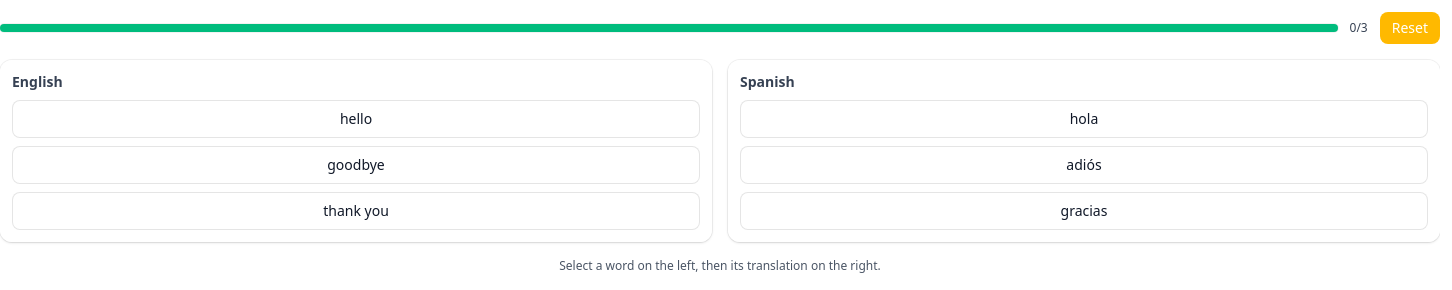
it: WordMatcher › disables matched word buttons
# Match hello - hola
Click the button with aria-label "select hello".
click(356, 119)  # box [12, 100, 700, 138]
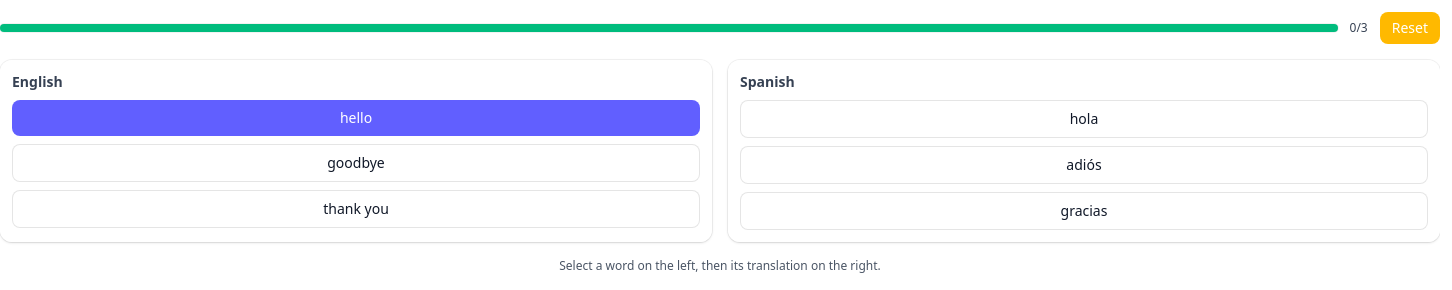
Click the button with aria-label "choose hola".
click(1084, 119)  # box [740, 100, 1428, 138]
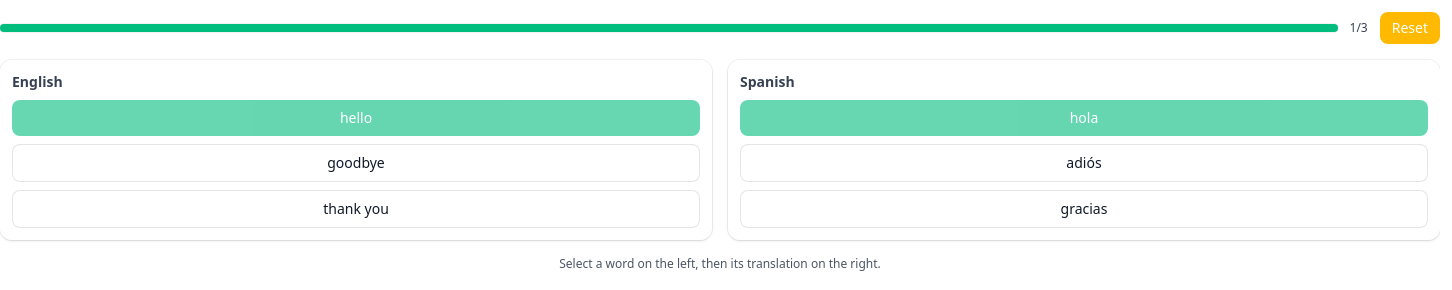
Check: the button with aria-label "select hello" is disabled, box [12, 100, 700, 136]
Check: the button with aria-label "choose hola" is disabled, box [740, 100, 1428, 136]
